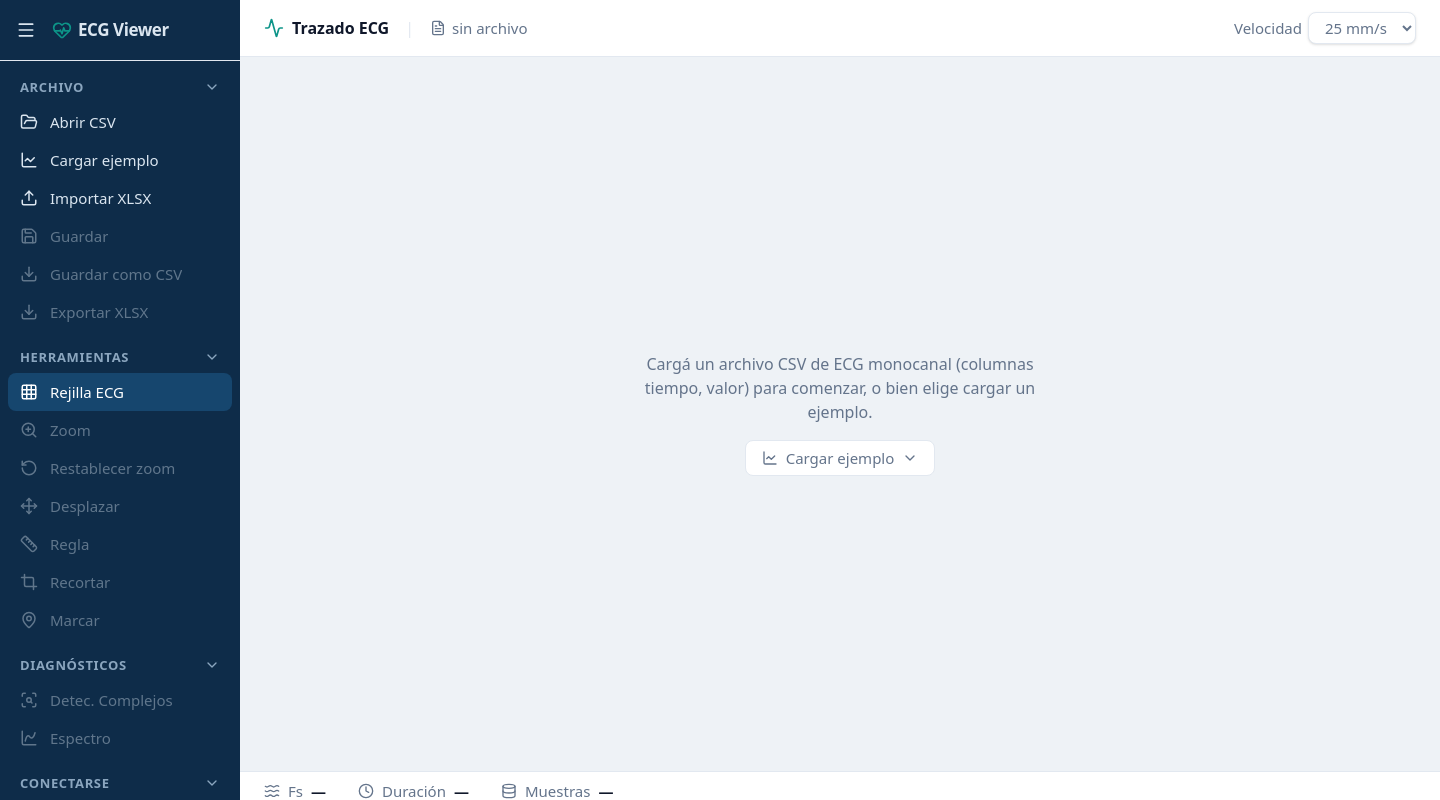
Test case: MainPage — integración US1 + US2 › el estado vacío ofrece cargar un ejemplo con menú desplegable
The width and height of the screenshot is (1440, 800).
Note: Al abrir el del área de trabajo se listan los tres ejemplos.
Click the 2nd button "Cargar ejemplo" at point(840, 458), box [745,440,935,476]
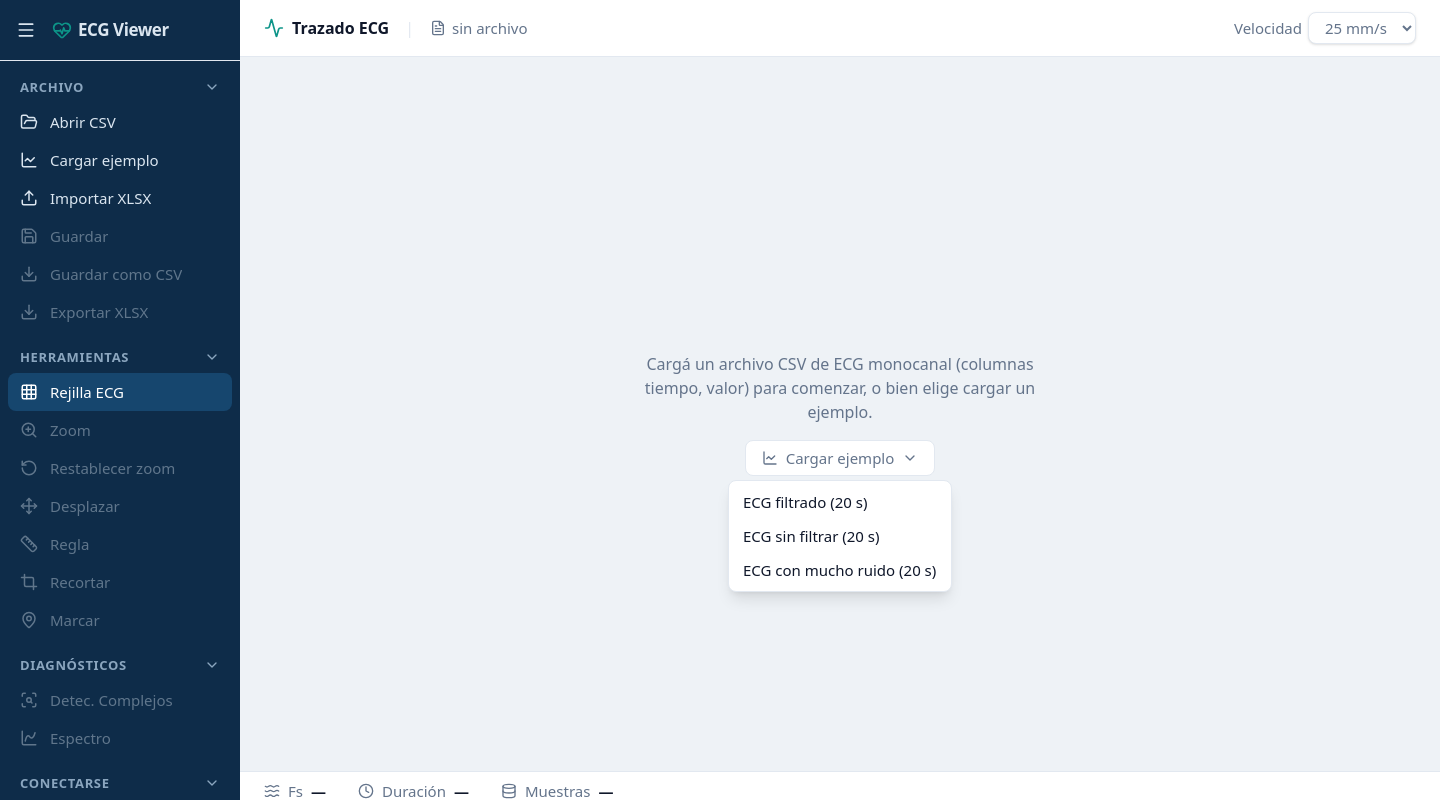
expect the number of menu items is 3: met, box [733,485,947,519]; [733,519,947,553]; [733,553,947,587]
